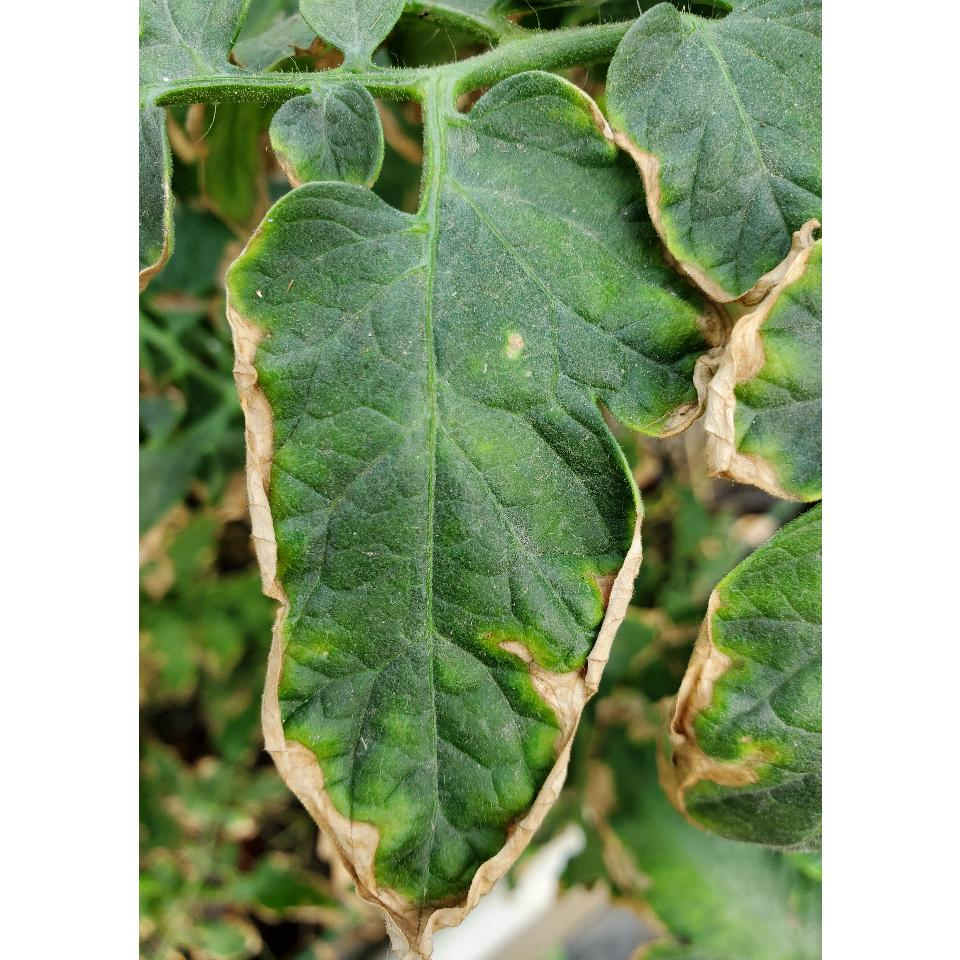tomato_bacterial_blight: (216, 92, 716, 960), (699, 227, 821, 543)
